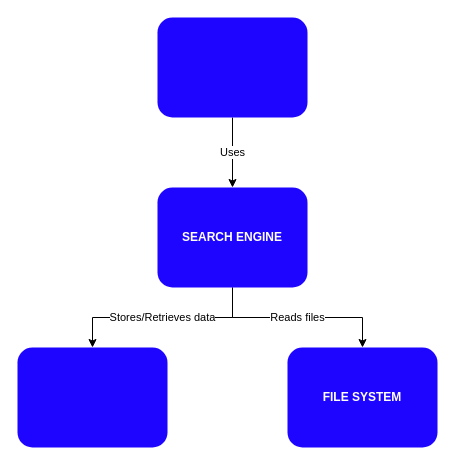
The diagram is 455 pixels wide and 465 high, and some of its shapes have lost their labels. Here are the shapes that lost their labels. From the top down, the box of each, then its label:
(156, 16, 308, 118): USER [Person]
(16, 346, 168, 448): POSTGRESQL DATABASE
